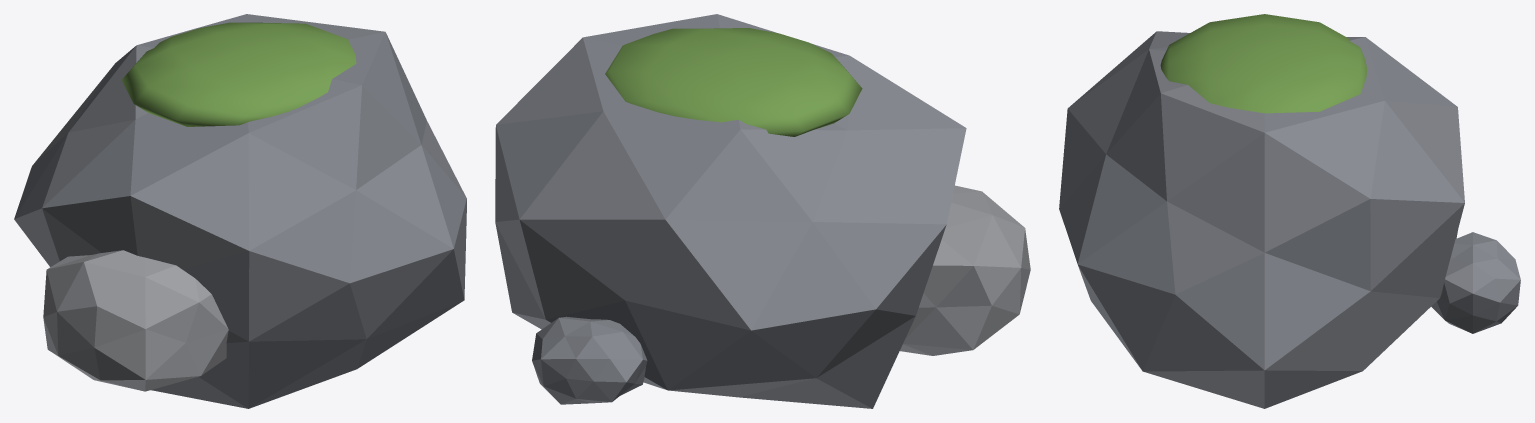
Rendered from Rock0.glb.
The picture shows the model from 3 angles, left to right: view 1: azimuth 30°, elevation 25°; view 2: azimuth 150°, elevation 25°; view 3: azimuth 270°, elevation 25°; orthographic projection. The views are drawn at different scales.
Parts seen in each view (by area): view 1: Rock0; view 2: Rock0; view 3: Rock0.
Boxes of the visible parts, left/top/right/bottom form: Rock0: left=14, top=14, right=466, bottom=408; Rock0: left=495, top=14, right=1030, bottom=408; Rock0: left=1059, top=14, right=1520, bottom=408.
Size of the model in its own units: 2.14 by 1.36 by 1.89.
